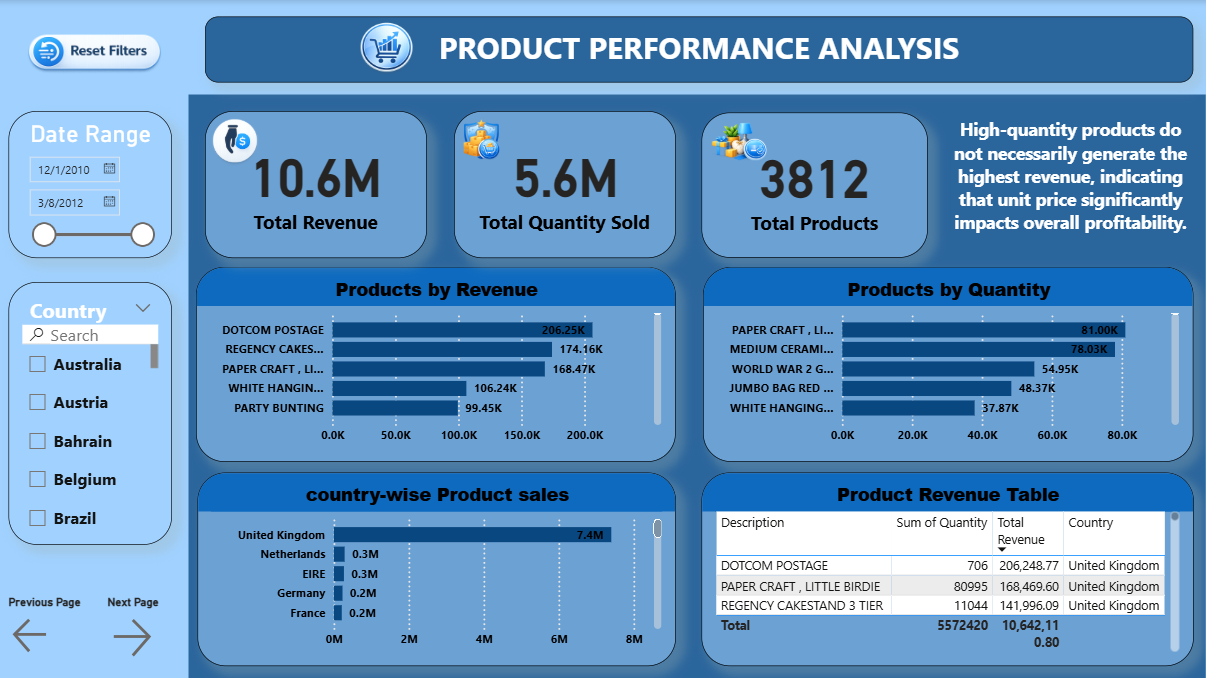

What the dashboard file says about the page in this screenshot:
{"tool":"powerbi","page":{"name":"Product Performance Analysis","canvas":[1280,720],"ordinal":2},"visuals":[{"type":"shape","box":[202,100.2,1078.4,620.3],"z":1000},{"type":"clusteredBarChart","title":"Products by Revenue (Top 10)","fields":{"Y":["clean_sales.Total Revenue"],"Category":["clean_sales.Description"]},"box":[210,283.1,509,206.8],"z":2000},{"type":"barChart","title":"country-wise Product sales","fields":{"Category":["clean_sales.Country"],"Y":["clean_sales.Total Revenue"]},"box":[211.6,501,507.4,205.2],"z":3000},{"type":"card","fields":{"Values":["clean_sales.Total Products"]},"box":[746,119.3,240.2,154.3],"z":4000},{"type":"card","fields":{"Values":["clean_sales.Total Quantity"]},"box":[483.5,117.7,235.4,155.9],"z":6000},{"type":"card","fields":{"Values":["clean_sales.Total Revenue"]},"box":[219.5,117.7,235.4,155.9],"z":7000},{"type":"slicer","fields":{"Values":["clean_sales.Country"]},"box":[11.1,299,173.4,278.4],"z":8000},{"type":"textbox","box":[219.5,17.5,1048.2,70],"z":9000},{"type":"image","box":[209.3,102.2,68.4,101.8],"z":10000},{"type":"image","box":[483.5,106.6,52.5,84.3],"z":11000},{"type":"image","box":[730.1,70,106.6,163.8],"z":12000},{"type":"slicer","title":"Date Range","fields":{"Values":["DateTable.Date"]},"box":[11.1,117.7,173.4,155.9],"z":13000},{"type":"image","box":[0,0,202,119.3],"z":14000},{"type":"textbox","box":[1006.9,119.3,260.9,163.8],"z":15000},{"type":"image","box":[340.4,3.2,143.2,100.2],"z":16000},{"type":"clusteredBarChart","title":"Products by Quantity (Top 10)","fields":{"Category":["clean_sales.Description"],"Y":["clean_sales.Total Quantity Sold"]},"box":[747.6,283.1,520.1,206.8],"z":17000},{"type":"tableEx","title":"Product Revenue Table","fields":{"Values":["clean_sales.Description","Sum(clean_sales.Quantity)","clean_sales.Total Revenue","clean_sales.Country"]},"box":[746,501,521.7,205.2],"z":18000},{"type":"actionButton","title":"Next Page","box":[116.1,631.5,68.4,70],"z":19000},{"type":"actionButton","title":"Previous Page","box":[11.1,631.5,105,65.2],"z":20000}]}

Visuals, with their boxes in screenshot pixels (x1, y1, x2, y2), scaled from the page's 1280x720 canvas onto the 1206x678 screenshot:
shape: bbox(190, 94, 1205, 677)
"Products by Revenue (Top 10)" clusteredBarChart: bbox(198, 267, 677, 461)
"country-wise Product sales" barChart: bbox(199, 472, 677, 665)
card - clean_sales.Total Products: bbox(703, 112, 929, 258)
card - clean_sales.Total Quantity: bbox(456, 111, 677, 258)
card - clean_sales.Total Revenue: bbox(207, 111, 429, 258)
slicer - clean_sales.Country: bbox(10, 282, 174, 544)
textbox: bbox(207, 16, 1194, 82)
image: bbox(197, 96, 262, 192)
image: bbox(456, 100, 505, 180)
image: bbox(688, 66, 788, 220)
"Date Range" slicer: bbox(10, 111, 174, 258)
image: bbox(0, 0, 190, 112)
textbox: bbox(949, 112, 1195, 267)
image: bbox(321, 3, 456, 97)
"Products by Quantity (Top 10)" clusteredBarChart: bbox(704, 267, 1194, 461)
"Product Revenue Table" tableEx: bbox(703, 472, 1194, 665)
"Next Page" actionButton: bbox(109, 595, 174, 661)
"Previous Page" actionButton: bbox(10, 595, 109, 656)
